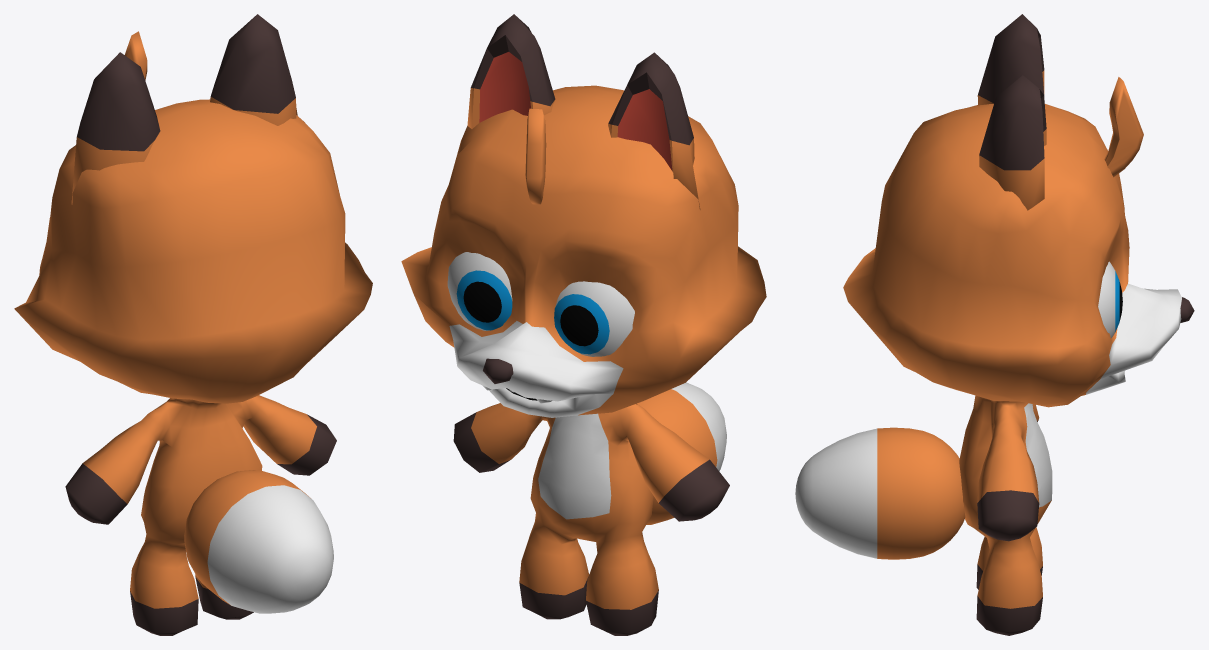
Rendered from PipMayaDone.fbx.
The picture shows the model from 3 angles, left to right: view 1: azimuth 30°, elevation 25°; view 2: azimuth 150°, elevation 25°; view 3: azimuth 270°, elevation 25°; orthographic projection. The views are drawn at different scales.
Visible parts, largest first — view 1: HeadBody, Tail, L_Ear, R_Ear, Hair; view 2: HeadBody, L_Ear, R_Ear, L_Eye, Tail, R_Eye, Hair, Nose; view 3: HeadBody, Tail, R_Ear, L_Ear, Hair, R_Eye.
Part boxes in pixels (bbox=[...]): HeadBody: bbox=[14, 99, 372, 635]; Tail: bbox=[184, 470, 333, 613]; L_Ear: bbox=[71, 52, 160, 204]; R_Ear: bbox=[210, 14, 297, 125]; Hair: bbox=[125, 31, 147, 80]; HeadBody: bbox=[401, 85, 766, 635]; L_Ear: bbox=[608, 52, 700, 209]; R_Ear: bbox=[467, 14, 555, 128]; L_Eye: bbox=[554, 281, 634, 356]; Tail: bbox=[637, 382, 726, 524]; R_Eye: bbox=[447, 252, 512, 330]; Hair: bbox=[525, 108, 546, 204]; Nose: bbox=[483, 358, 513, 383]; HeadBody: bbox=[843, 104, 1181, 635]; Tail: bbox=[795, 427, 965, 559]; R_Ear: bbox=[979, 75, 1046, 210]; L_Ear: bbox=[977, 14, 1044, 105]; Hair: bbox=[1104, 77, 1143, 177]; R_Eye: bbox=[1098, 261, 1122, 338].
Size of the model in its own units: 5.23 by 9.23 by 5.83.
